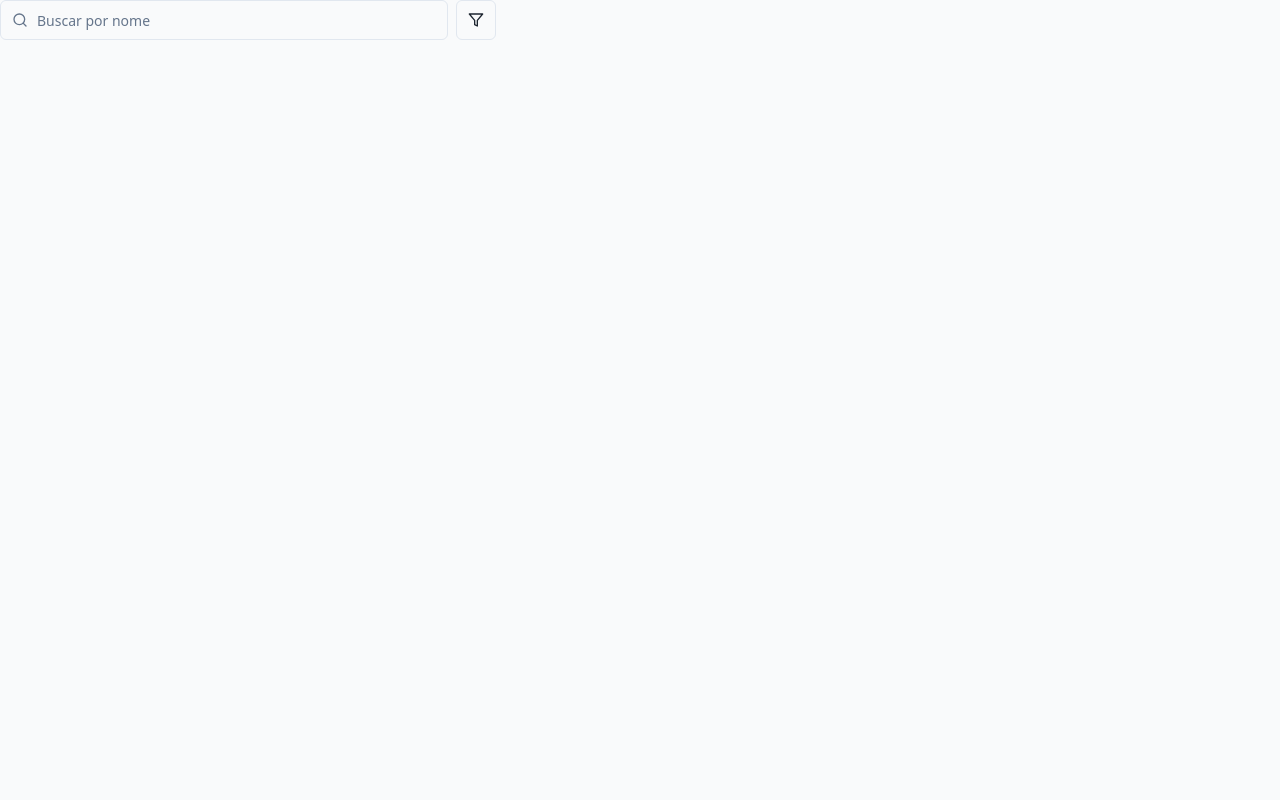
Test: FinanceFilters › "Limpar" reseta todos os campos e emite filtro vazio
In the field with placeholder "Buscar por nome": [224, 20] box [0, 0, 448, 40], type "Josimar"
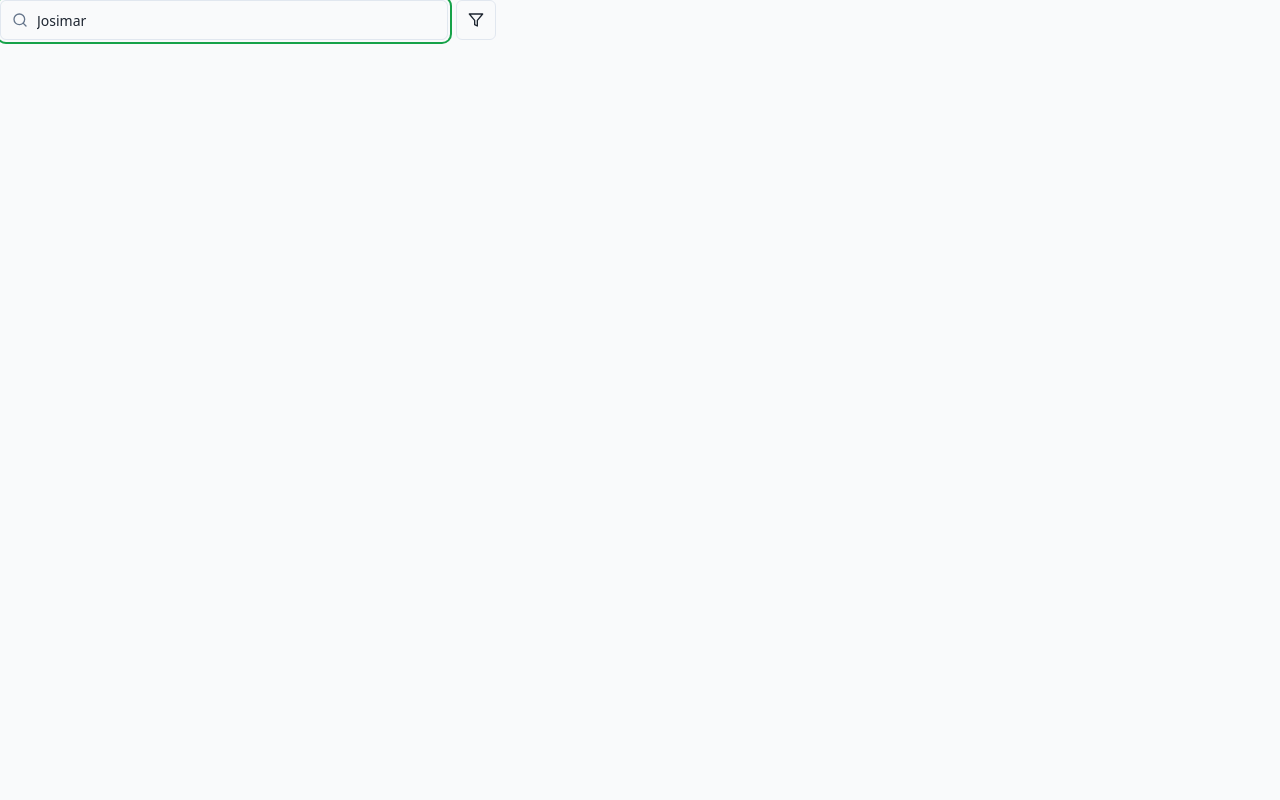
Click the button named "filtros": [476, 20] box [456, 0, 496, 40]
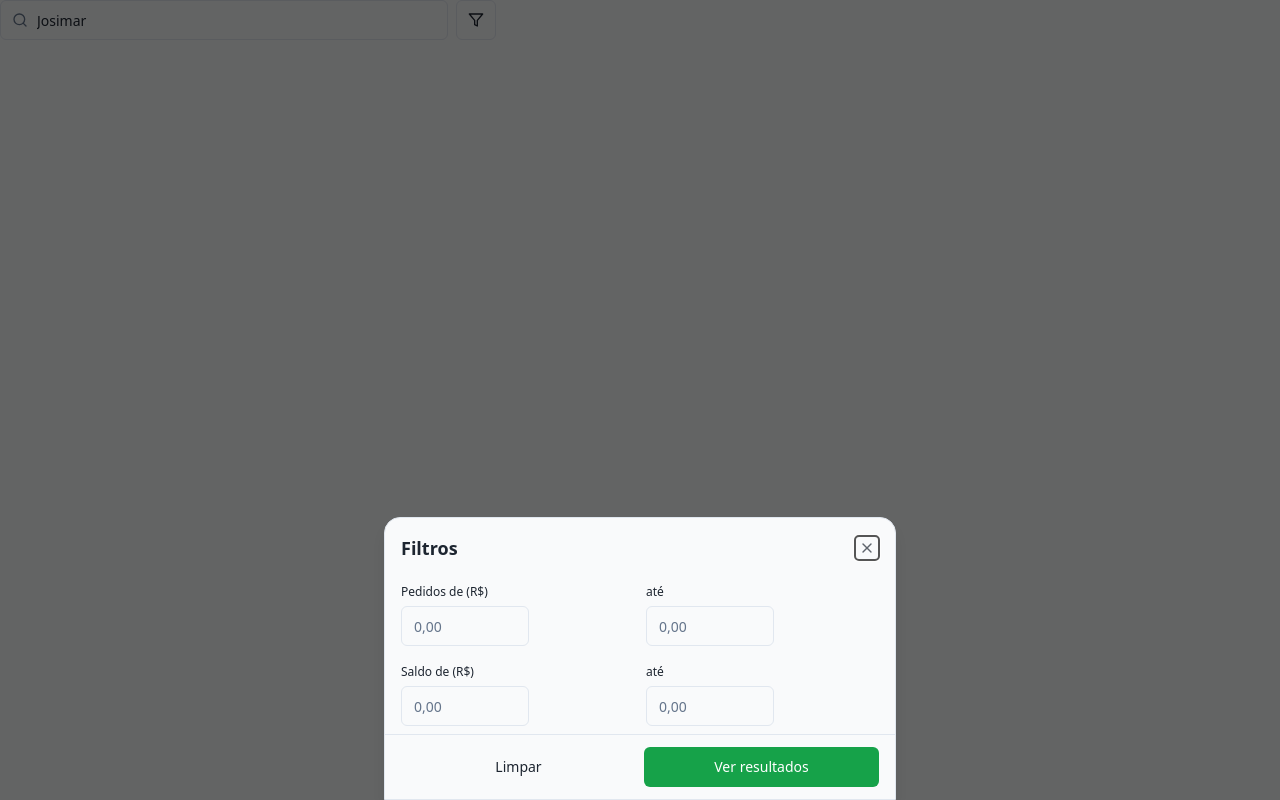
Click the button "Limpar": [518, 767] box [401, 747, 636, 787]
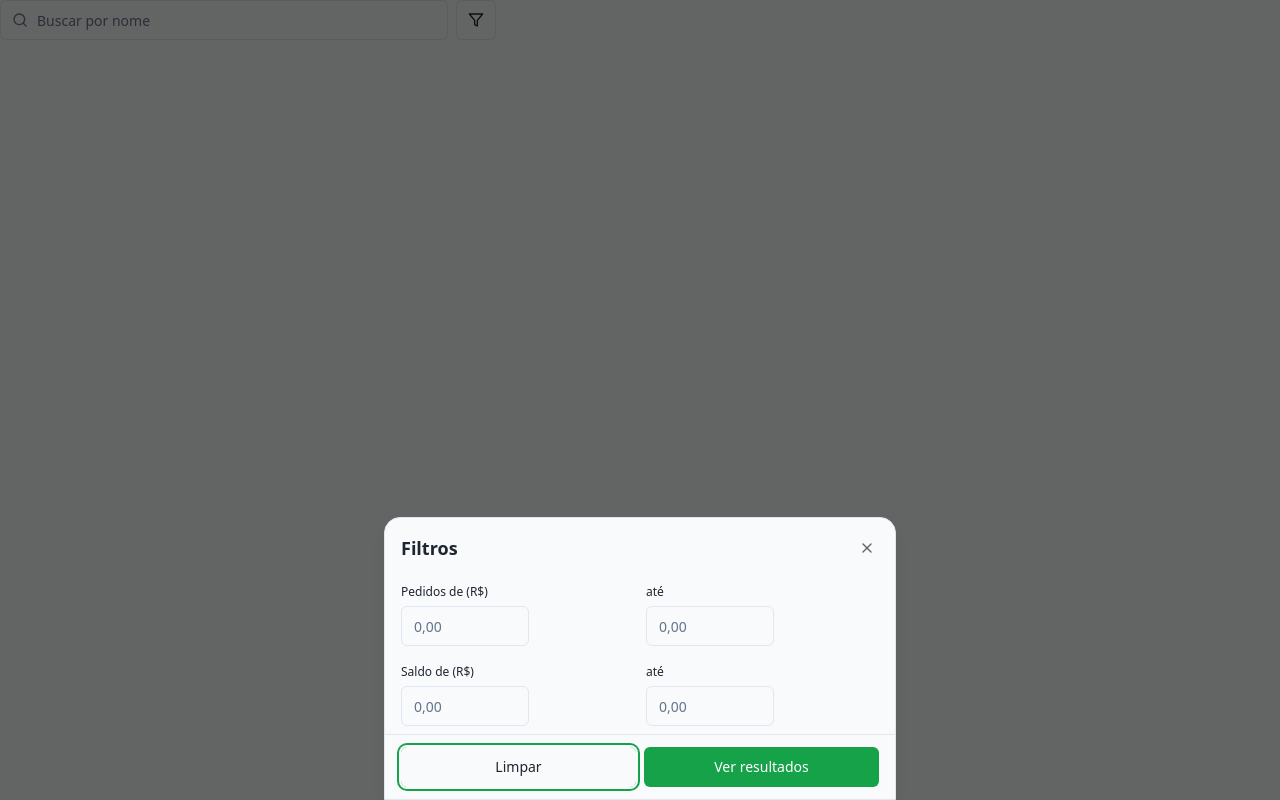
Result: the field with placeholder "Buscar por nome" is empty at [0, 0, 448, 40]
